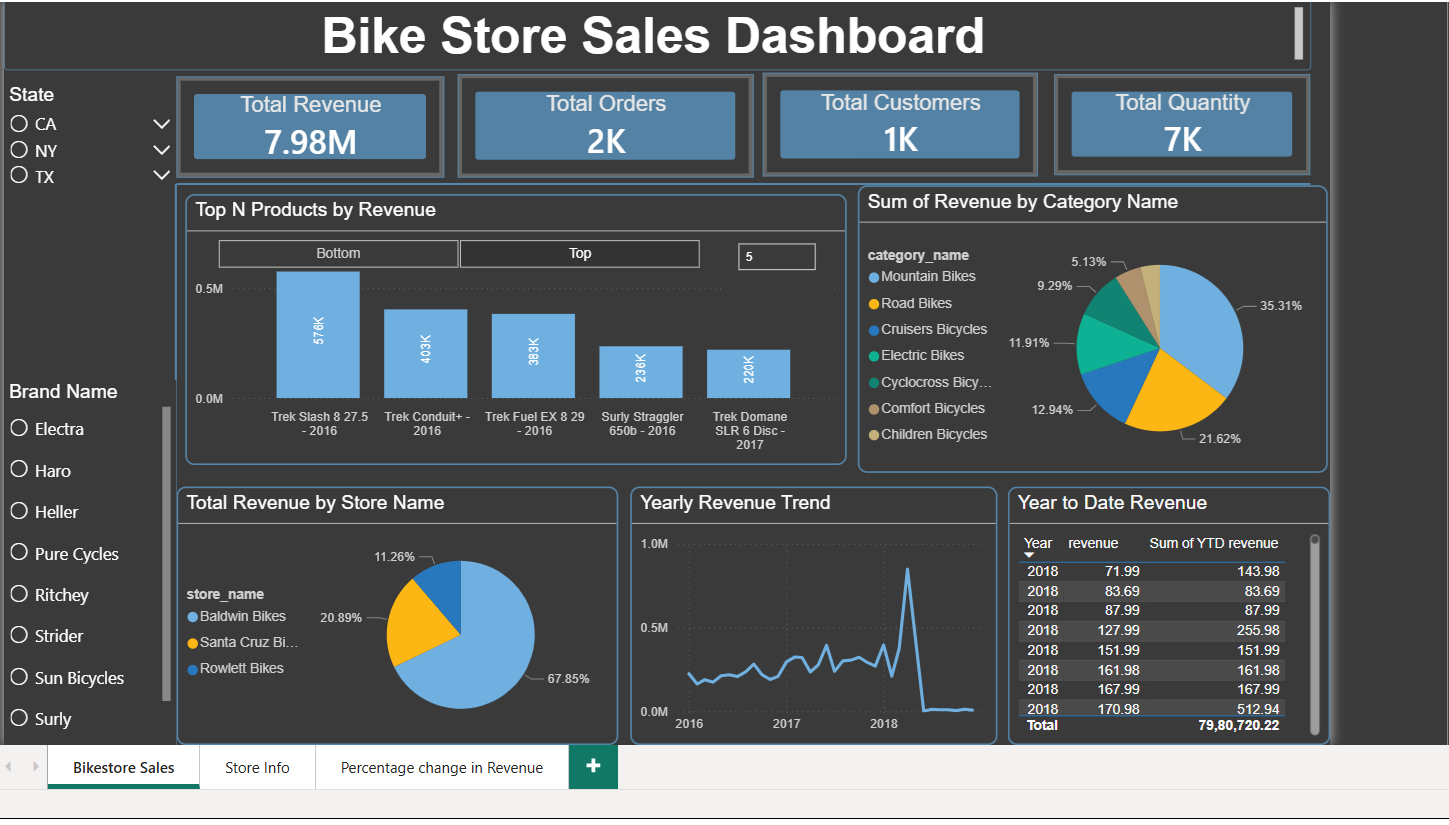

Layout of this report page (visuals, bound fields, positions):
{"tool":"powerbi","page":{"name":"Bikestore Sales","canvas":[1280,720],"ordinal":0},"visuals":[{"type":"pieChart","title":"Sum of Revenue by Category Name","fields":{"Category":["categories.category_name"],"Y":["Sum(order_items.revenue)"]},"box":[824,180,453.3,277.3],"z":0},{"type":"listSlicer","title":"State","fields":{"Values":["customers.state","customers.city"]},"box":[0,82,166.5,236.5],"z":1000},{"type":"lineChart","title":"Yearly Revenue Trend","fields":{"Y":["Sum(order_items.revenue)"],"Category":["Table.Date.Variation.Date Hierarchy.Year","Table.Date.Variation.Date Hierarchy.Month"]},"box":[604,470.7,354.7,249.3],"z":2000},{"type":"cardVisual","fields":{"Data":["order_items.total revenue"]},"box":[166.5,74.8,258.2,97.7],"z":3000},{"type":"cardVisual","fields":{"Data":["orders.total_orders"]},"box":[437.9,72.4,285.9,100.1],"z":4000},{"type":"cardVisual","fields":{"Data":["customers.total_customers"]},"box":[732,70.7,265.3,100],"z":5000},{"type":"cardVisual","fields":{"Data":["Sum(order_items.quantity)"]},"box":[1013.4,72.4,247.3,97.7],"z":6000},{"type":"shape","box":[166.5,170.1,1094.2,16.9],"z":7000},{"type":"shape","box":[149.6,178.6,32.6,541.7],"z":8000},{"type":"textbox","box":[0,562.7,150.7,157.3],"z":9000},{"type":"textbox","box":[0,0,1261.9,68.8],"z":10000},{"type":"pieChart","title":"Total Revenue by Store Name","fields":{"Category":["stores.store_name"],"Y":["order_items.Total revenue"]},"box":[166.7,470.7,426.7,249.3],"z":11000},{"type":"listSlicer","title":"Brand Name","fields":{"Values":["brands.brand_name"]},"box":[0,368,166.7,352],"z":12000},{"type":"clusteredColumnChart","title":"Top N Products by Revenue","fields":{"Category":["products.product_name"],"Y":["Sum(order_items.revenue)"]},"box":[174.7,188,638.7,261.3],"z":13000},{"type":"slicer","fields":{"Values":["Table (2).Value"]},"box":[181.3,225.3,514.7,36],"z":14000},{"type":"slicer","fields":{"Values":["Parameter.Parameter"]},"box":[696,225.3,102.7,76],"z":15000},{"type":"tableEx","title":"Year to Date Revenue","fields":{"Values":["Table.Date.Variation.Date Hierarchy.Year","order_items.revenue","Sum(order_items.YTD revenue)"]},"box":[968.8,470.5,311.3,249.7],"z":16000}]}

Visuals, with their boxes on the page's 1280x720 design canvas (x1, y1, x2, y2). These are canvas units, not pixel positions in the 1449x825 screenshot, which may show the page scaled, cropped or inside an application window:
"Sum of Revenue by Category Name" pieChart: 824/180/1277/457
"State" listSlicer: 0/82/166/318
"Yearly Revenue Trend" lineChart: 604/471/959/720
cardVisual - order_items.total revenue: 166/75/425/172
cardVisual - orders.total_orders: 438/72/724/172
cardVisual - customers.total_customers: 732/71/997/171
cardVisual - Sum(order_items.quantity): 1013/72/1261/170
shape: 166/170/1261/187
shape: 150/179/182/720
textbox: 0/563/151/720
textbox: 0/0/1262/69
"Total Revenue by Store Name" pieChart: 167/471/593/720
"Brand Name" listSlicer: 0/368/167/720
"Top N Products by Revenue" clusteredColumnChart: 175/188/813/449
slicer - Table (2).Value: 181/225/696/261
slicer - Parameter.Parameter: 696/225/799/301
"Year to Date Revenue" tableEx: 969/470/1280/720
